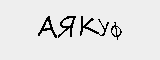А: (35, 14, 58, 37)
К: (78, 15, 100, 40)
У: (95, 15, 108, 39)
Ф: (109, 21, 122, 41)
Я: (58, 12, 76, 41)
